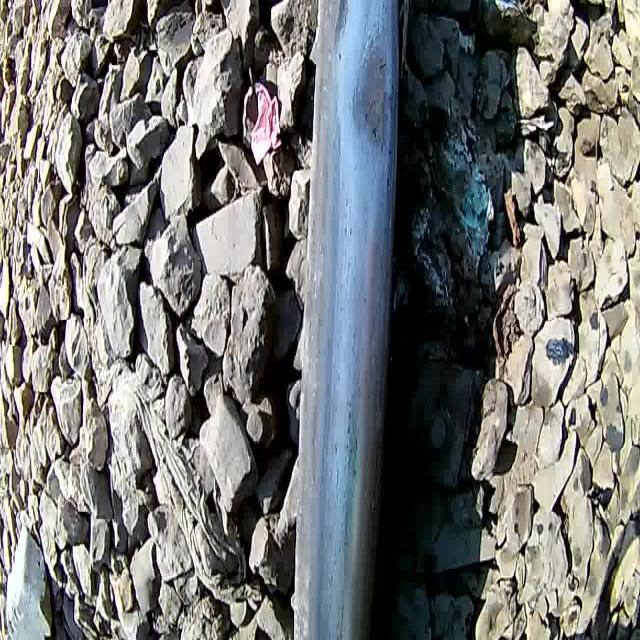Squats: (294, 0, 415, 640)
